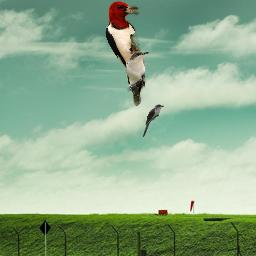Cuckoo: (126, 51, 149, 107), (142, 104, 164, 137)
Woodpecker: (105, 1, 145, 89)
